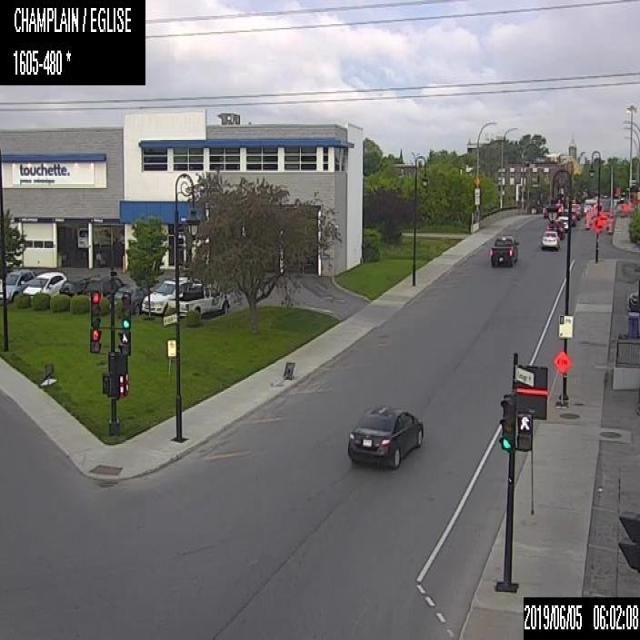construction: (553, 349, 571, 406), (269, 360, 295, 388), (40, 362, 56, 388), (590, 211, 605, 233), (608, 216, 612, 234), (610, 212, 614, 230), (584, 212, 588, 229)
vehicle: (346, 403, 423, 469), (167, 281, 230, 319), (141, 276, 189, 316), (22, 270, 67, 299), (0, 267, 36, 300), (113, 284, 152, 314), (84, 274, 127, 298), (490, 233, 517, 268), (59, 274, 91, 296), (540, 229, 559, 248), (546, 219, 564, 238), (543, 201, 561, 218), (562, 207, 576, 226), (627, 289, 639, 310), (584, 198, 596, 214), (570, 202, 580, 219), (556, 216, 568, 230)
